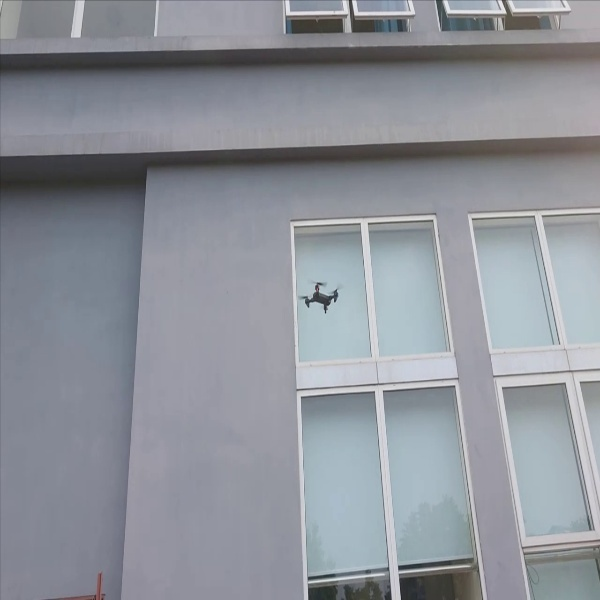drone: (297, 272, 344, 317)
